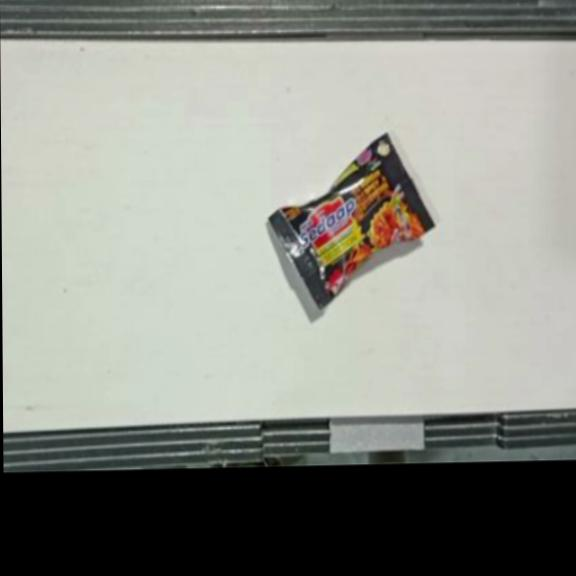Plastik: (266, 131, 437, 312)
